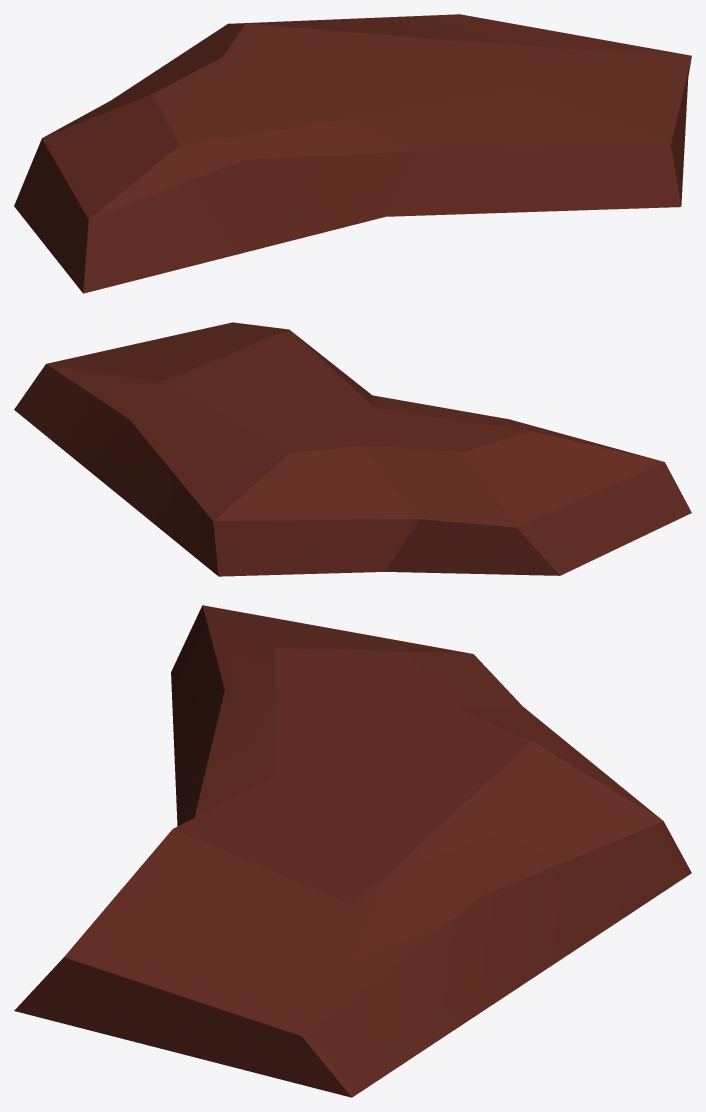
The model's file is Stone_3_Red.fbx.
The picture shows the model from 3 angles, top to bottom: view 1: azimuth 30°, elevation 25°; view 2: azimuth 150°, elevation 25°; view 3: azimuth 270°, elevation 25°; orthographic projection. The views are drawn at different scales.
Visible parts, largest first — view 1: Stone_3_Red; view 2: Stone_3_Red; view 3: Stone_3_Red.
Boxes of the visible parts, bbox=[...] form: Stone_3_Red: bbox=[14, 14, 691, 293]; Stone_3_Red: bbox=[14, 322, 691, 576]; Stone_3_Red: bbox=[14, 605, 691, 1097].
Size of the model in its own units: 361 by 48.23 by 243.
